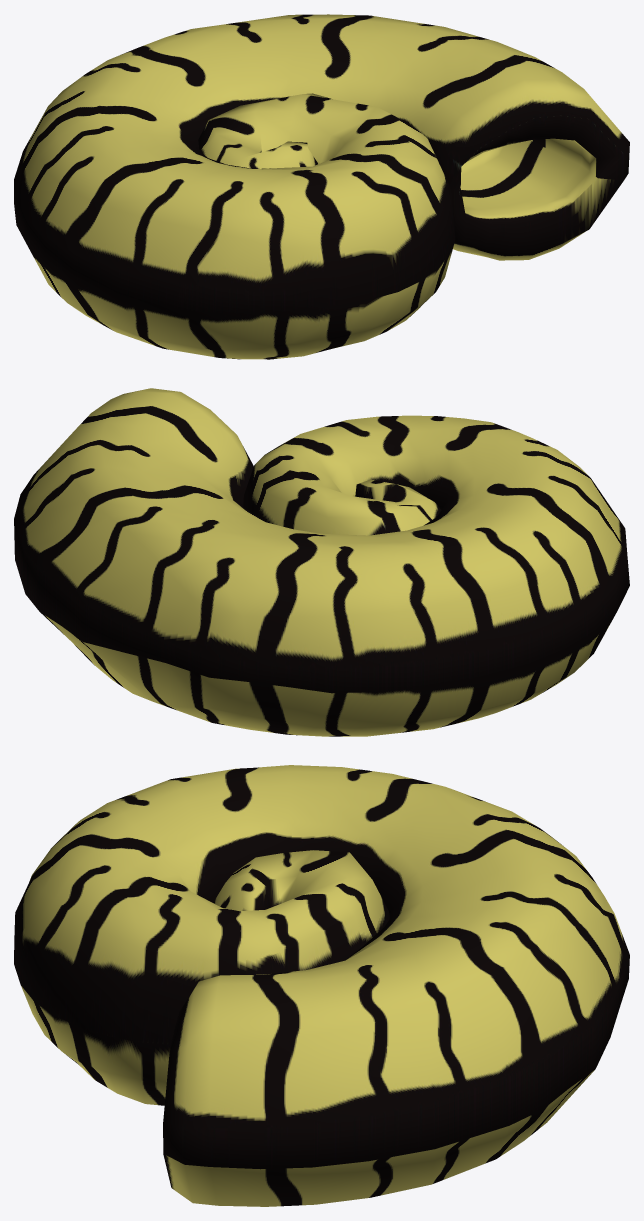
The model's file is Curvy_Shell_3.fbx.
3 renders of one model, top to bottom at view 1: azimuth 30°, elevation 25°; view 2: azimuth 150°, elevation 25°; view 3: azimuth 270°, elevation 25°, orthographic. The views are drawn at different scales.
Visible parts, largest first — view 1: Curvy_Shell; view 2: Curvy_Shell; view 3: Curvy_Shell.
Part boxes in pixels (x1,y1,x2,y2): Curvy_Shell: (14, 14, 629, 359); Curvy_Shell: (14, 388, 629, 736); Curvy_Shell: (14, 765, 629, 1206).
Size of the model in its own units: 32.99 by 10.33 by 27.05.
1 material, 1 textured.
